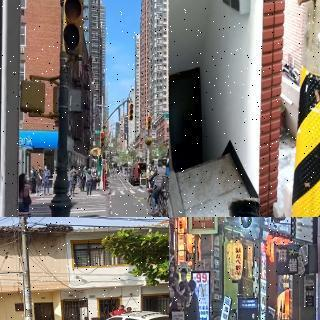Garbage: (229, 196, 262, 217)
